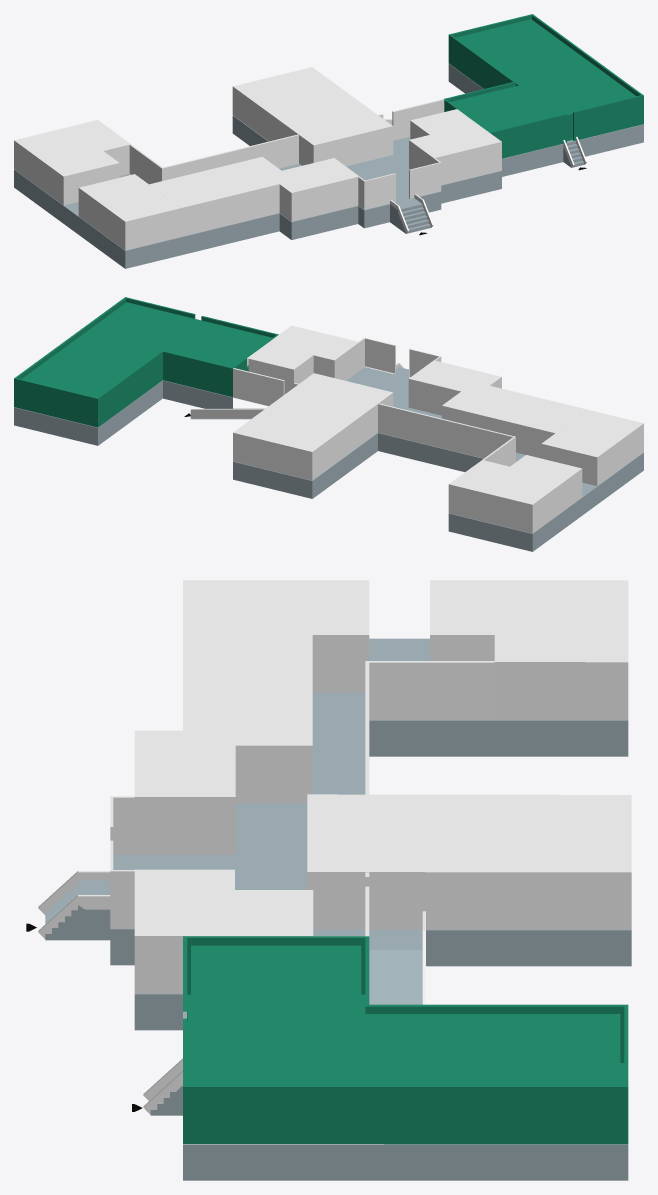
3 views of the same model, one above another, from view 1: azimuth 30°, elevation 25°; view 2: azimuth 150°, elevation 25°; view 3: azimuth 270°, elevation 25° (orthographic). The views are drawn at different scales.
Visible parts, largest first — view 1: AIM, Floor, sala-cc, uff-serv-giur, sala-b, uff-ced, muro-l.016, sala-matrimoni, ufficio-p0, private-restorooms, sala-b1, reception (+4 smaller); view 2: AIM, Floor, sala-cc, uff-ced, uff-serv-giur, muro-l.016, sala-b, ufficio-p0, sala-matrimoni, reception, sala-b1, muro-l.009 (+6 smaller); view 3: AIM, Floor, sala-cc, uff-ced, sala-b, uff-serv-giur, sala-matrimoni, muro-l.016, ufficio-p0, private-restorooms, sala-b1, ufficio-p0.001 (+5 smaller).
Boxes of the visible parts, bbox=[...] form: AIM: bbox=[443, 14, 643, 158]; Floor: bbox=[14, 63, 643, 268]; sala-cc: bbox=[232, 67, 393, 166]; uff-serv-giur: bbox=[78, 174, 181, 250]; sala-b: bbox=[247, 156, 359, 221]; uff-ced: bbox=[14, 120, 130, 192]; muro-l.016: bbox=[129, 134, 298, 184]; sala-matrimoni: bbox=[419, 115, 501, 181]; ufficio-p0: bbox=[170, 168, 247, 231]; private-restorooms: bbox=[47, 151, 119, 205]; sala-b1: bbox=[216, 160, 279, 220]; reception: bbox=[409, 135, 454, 185]; AIM: bbox=[14, 297, 278, 427]; Floor: bbox=[14, 367, 643, 551]; sala-cc: bbox=[233, 373, 393, 480]; uff-ced: bbox=[448, 460, 565, 533]; uff-serv-giur: bbox=[541, 409, 643, 486]; muro-l.016: bbox=[378, 403, 515, 466]; sala-b: bbox=[408, 360, 501, 422]; ufficio-p0: bbox=[489, 393, 566, 456]; sala-matrimoni: bbox=[256, 325, 337, 380]; reception: bbox=[313, 337, 359, 380]; sala-b1: bbox=[457, 386, 520, 429]; muro-l.009: bbox=[233, 368, 284, 405]; AIM: bbox=[183, 936, 628, 1144]; Floor: bbox=[45, 638, 631, 1180]; sala-cc: bbox=[307, 794, 631, 929]; uff-ced: bbox=[494, 580, 628, 719]; sala-b: bbox=[134, 730, 312, 854]; uff-serv-giur: bbox=[183, 580, 369, 692]; sala-matrimoni: bbox=[134, 890, 278, 993]; muro-l.016: bbox=[365, 661, 494, 794]; ufficio-p0: bbox=[183, 655, 312, 699]; private-restorooms: bbox=[430, 580, 494, 660]; sala-b1: bbox=[183, 700, 312, 730]; ufficio-p0.001: bbox=[183, 635, 312, 655].
Bounding box in the file's own units: 1.48 × 0.1287 × 0.7475.
